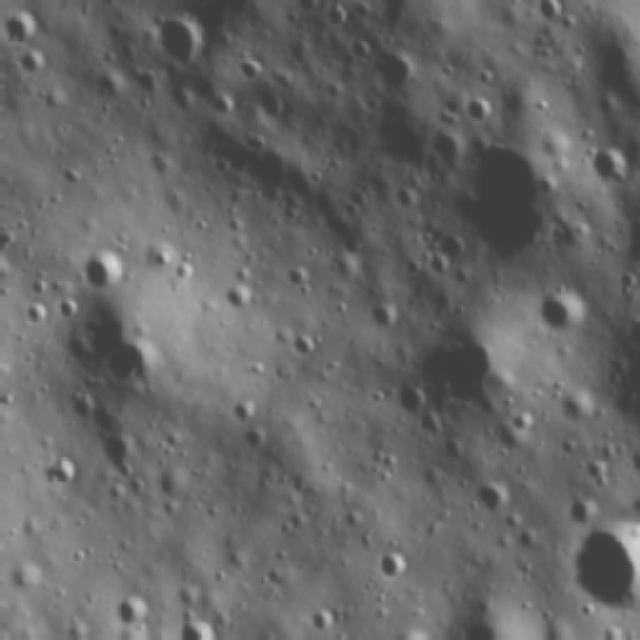crater: (460, 139, 551, 264), (52, 309, 162, 403), (408, 328, 510, 428), (564, 516, 640, 616), (142, 12, 203, 77), (536, 284, 584, 341), (96, 432, 144, 483), (578, 142, 628, 190), (74, 248, 123, 295), (372, 53, 421, 96), (38, 447, 84, 487), (434, 234, 469, 286), (386, 379, 423, 428), (100, 592, 148, 628), (370, 550, 413, 588), (288, 323, 326, 366), (469, 484, 508, 524), (558, 392, 598, 430), (556, 490, 592, 532), (217, 278, 255, 317), (530, 2, 573, 36), (363, 298, 403, 334), (253, 93, 290, 130), (2, 12, 40, 48), (458, 95, 496, 131), (8, 50, 47, 84), (228, 58, 264, 92), (339, 35, 372, 70), (308, 603, 337, 640), (232, 432, 268, 461), (217, 398, 249, 428), (318, 9, 352, 33)
